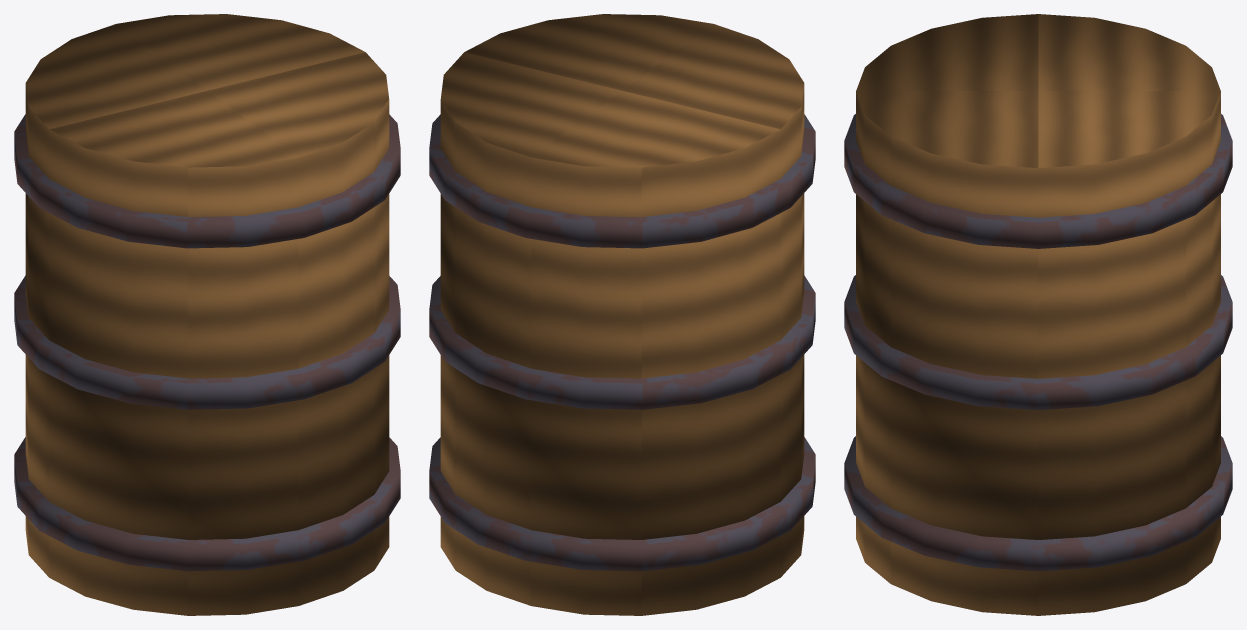
File: SM_Souq_Barrel.fbx
3 renders of one model, left to right at view 1: azimuth 30°, elevation 25°; view 2: azimuth 150°, elevation 25°; view 3: azimuth 270°, elevation 25°, orthographic.
Parts seen in each view (by area): view 1: SM_Souq_Barrel; view 2: SM_Souq_Barrel; view 3: SM_Souq_Barrel.
Part boxes in pixels (box(x1,y1,x2,y2)): SM_Souq_Barrel: box(14, 14, 400, 615); SM_Souq_Barrel: box(429, 14, 815, 615); SM_Souq_Barrel: box(844, 14, 1232, 615).
Size of the model in its own units: 0.5351 by 0.6811 by 0.5351.
